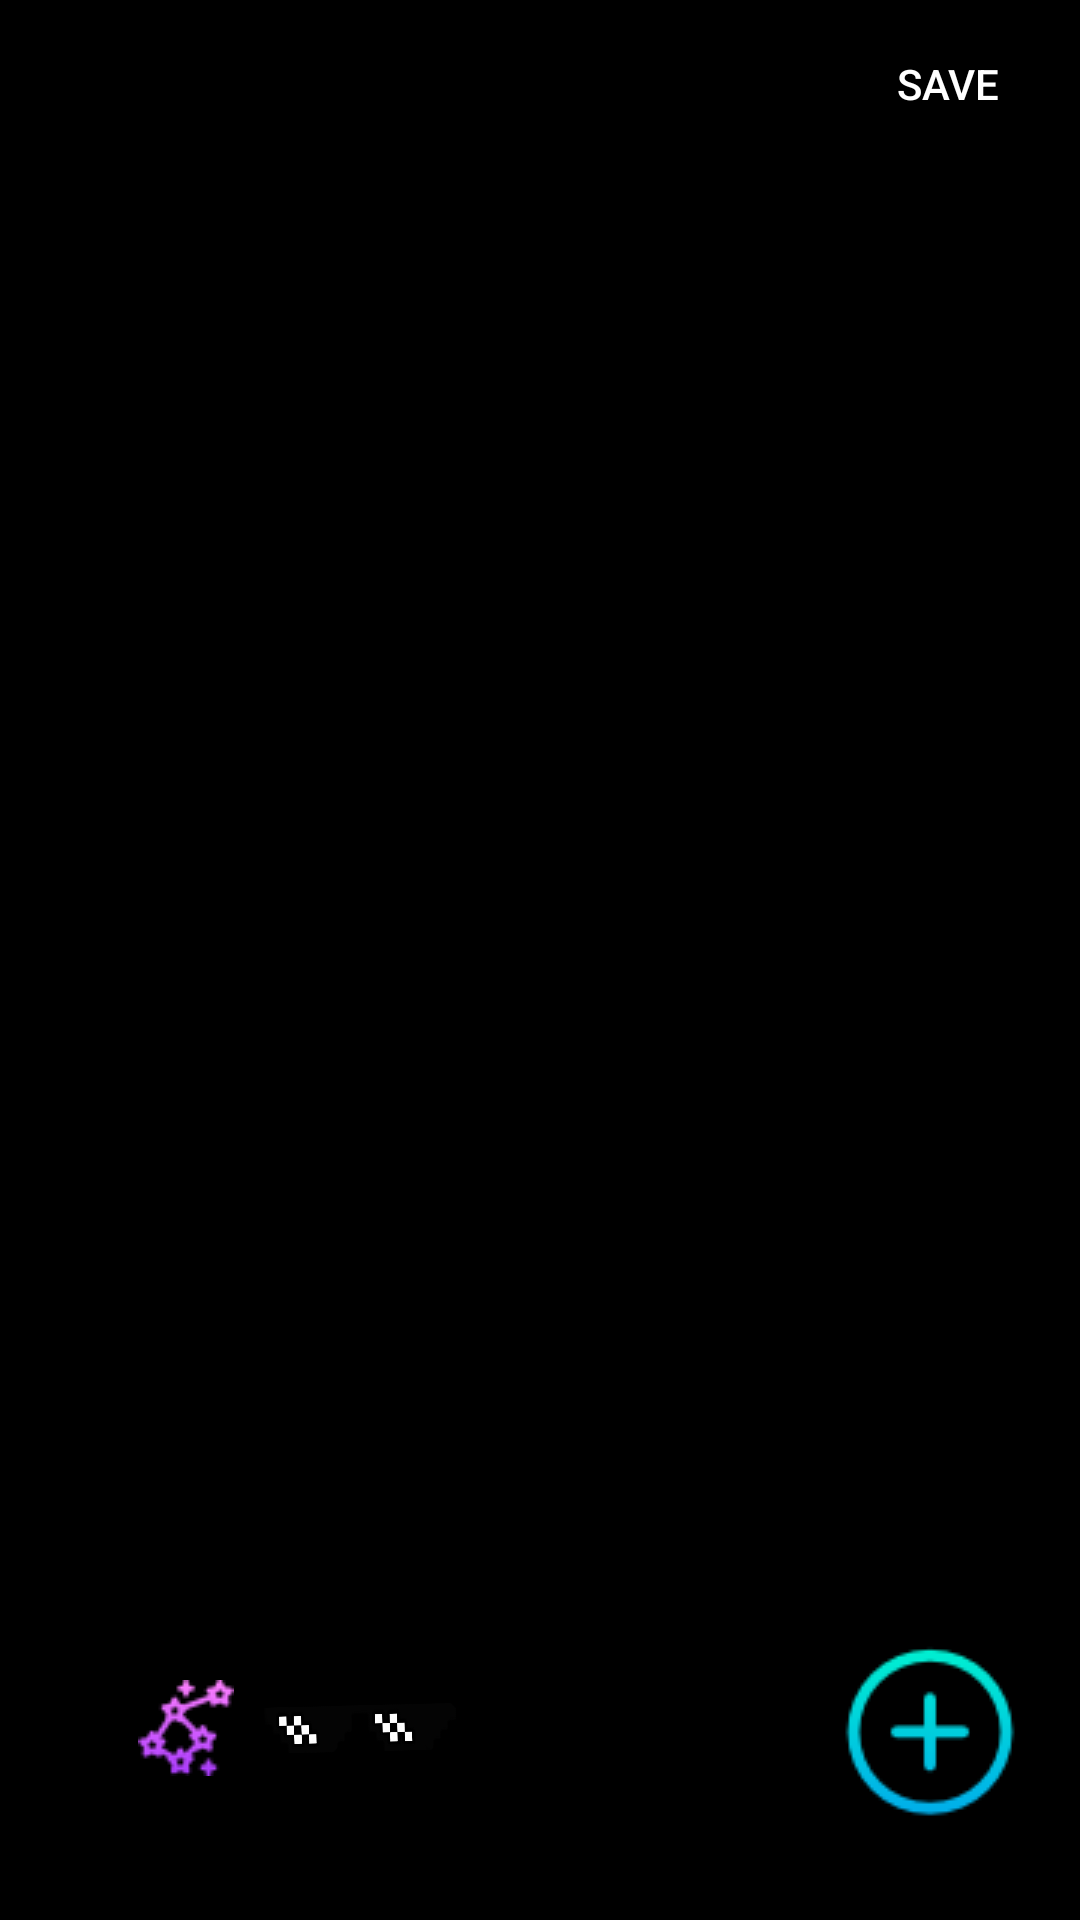

Icons on this 1080x1920 Android screen, each with the point to tap as (x=x, y=y):
add sticker: (x=930, y=1732)
bitsunglasses: (x=346, y=1728)
star sticker: (x=186, y=1728)
